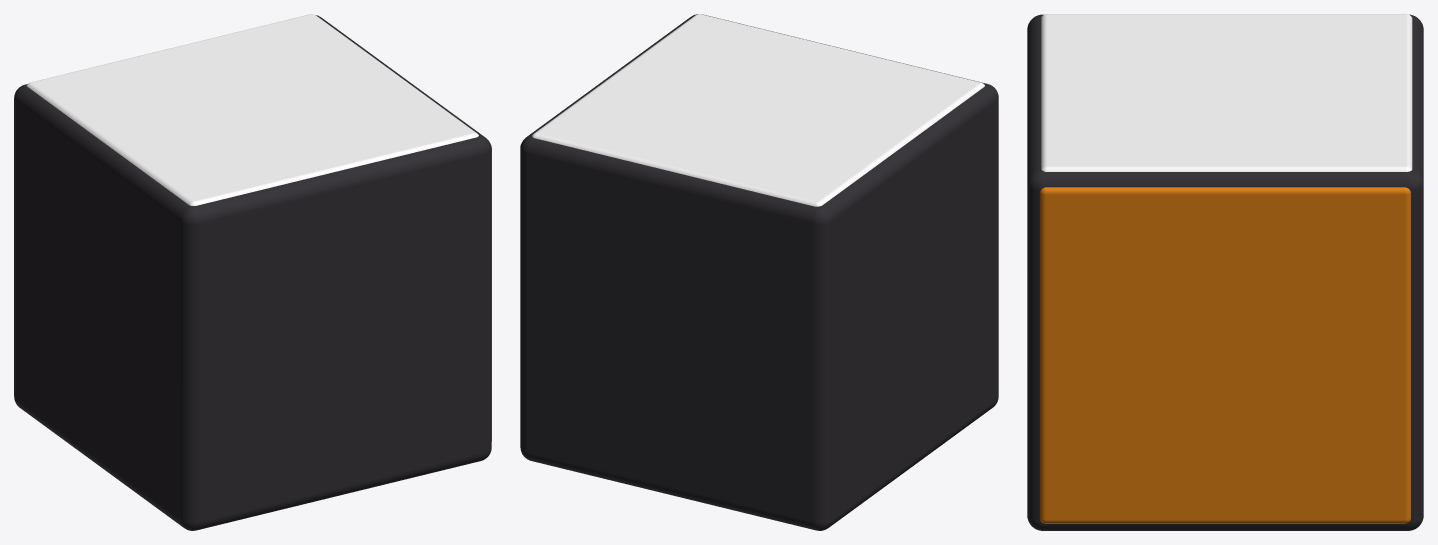
File: woEdge.obj
3 views of the same model, side by side, from view 1: azimuth 30°, elevation 25°; view 2: azimuth 150°, elevation 25°; view 3: azimuth 270°, elevation 25° (orthographic). The views are drawn at different scales.
Visible parts, largest first — view 1: 000_Base, 002_white; view 2: 000_Base, 002_white; view 3: 001_orange, 002_white, 000_Base.
Boxes of the visible parts, <box> form: 000_Base: <box>14,15,491,530</box>; 002_white: <box>26,14,478,205</box>; 000_Base: <box>520,14,998,530</box>; 002_white: <box>532,14,984,206</box>; 001_orange: <box>1040,187,1410,523</box>; 002_white: <box>1041,14,1412,171</box>; 000_Base: <box>1027,14,1423,530</box>.
Bounding box in the file's own units: 101 × 101 × 100.
